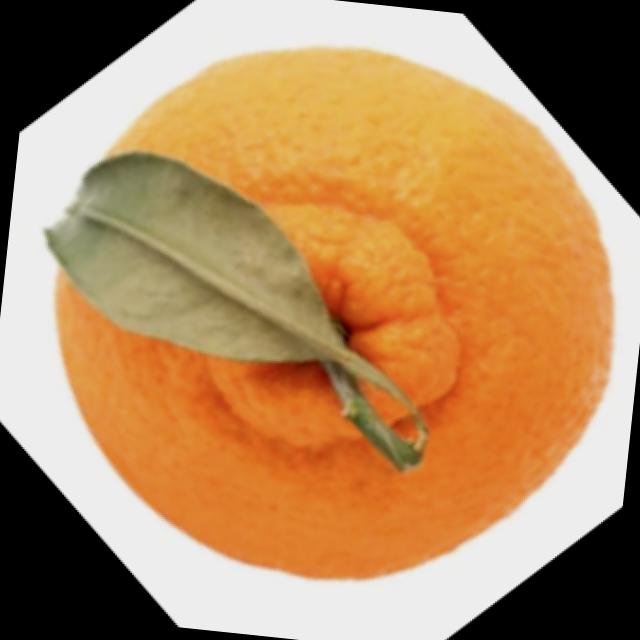orange: (28, 34, 634, 618)
